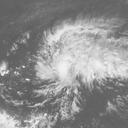cyclone: (34, 25, 106, 93)
